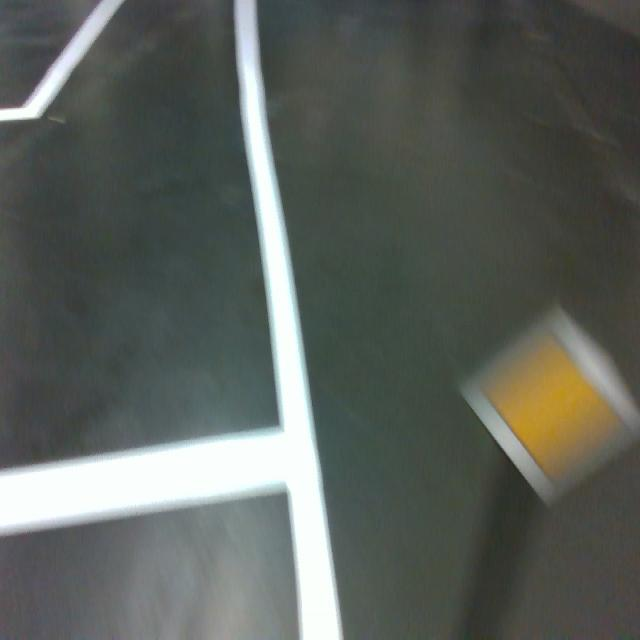priority-sign: (457, 300, 640, 508)
